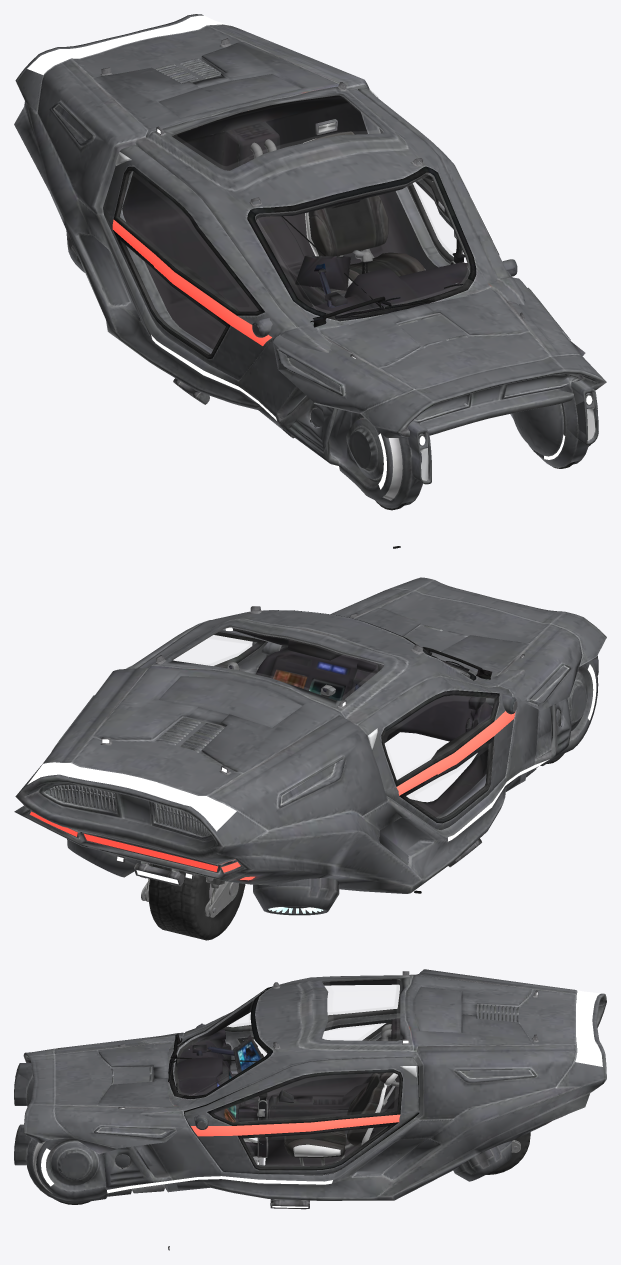
File: car5.0-transformed.glb
3 views of the same model, one above another, from view 1: azimuth 30°, elevation 25°; view 2: azimuth 150°, elevation 25°; view 3: azimuth 270°, elevation 25° (orthographic). The views are drawn at different scales.
Visible parts, largest first — view 1: spinner; view 2: spinner; view 3: spinner.
Boxes of the visible parts, x1=… form: spinner: x1=14, y1=14, x2=606, y2=548; spinner: x1=14, y1=577, x2=606, y2=940; spinner: x1=14, y1=969, x2=606, y2=1250.
Bounding box in the file's own units: 1.37 × 1.39 × 3.
7 materials, 3 textured.
